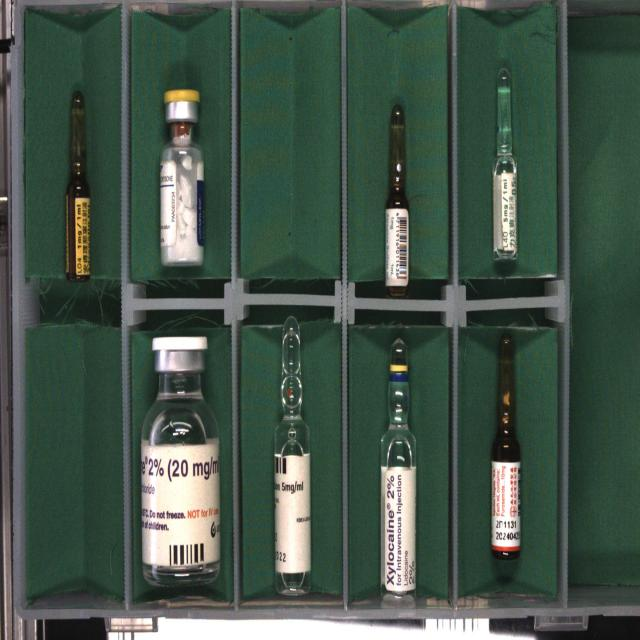Vials: (141, 336, 220, 587), (160, 89, 203, 266)
